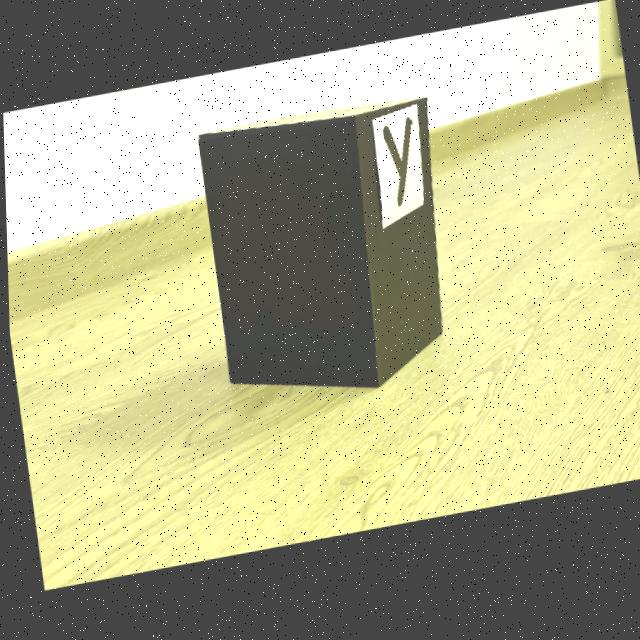Y: (382, 123, 411, 213)
